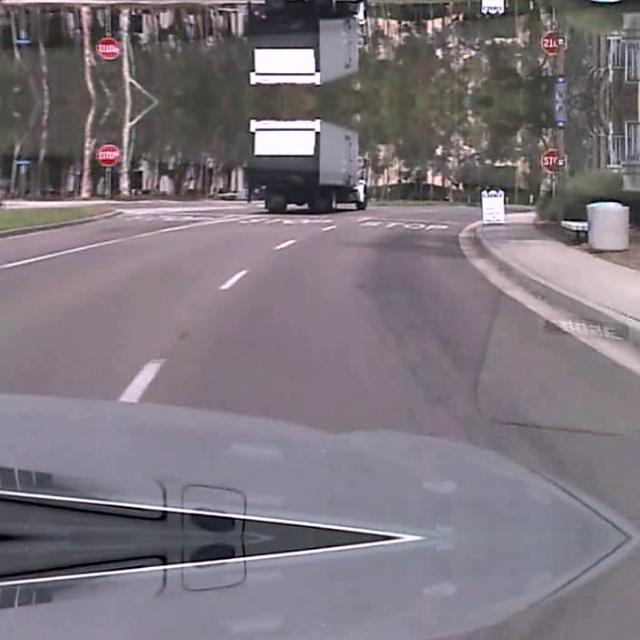stop: (540, 146, 568, 172), (540, 30, 568, 56), (96, 142, 118, 164), (96, 39, 118, 60)
